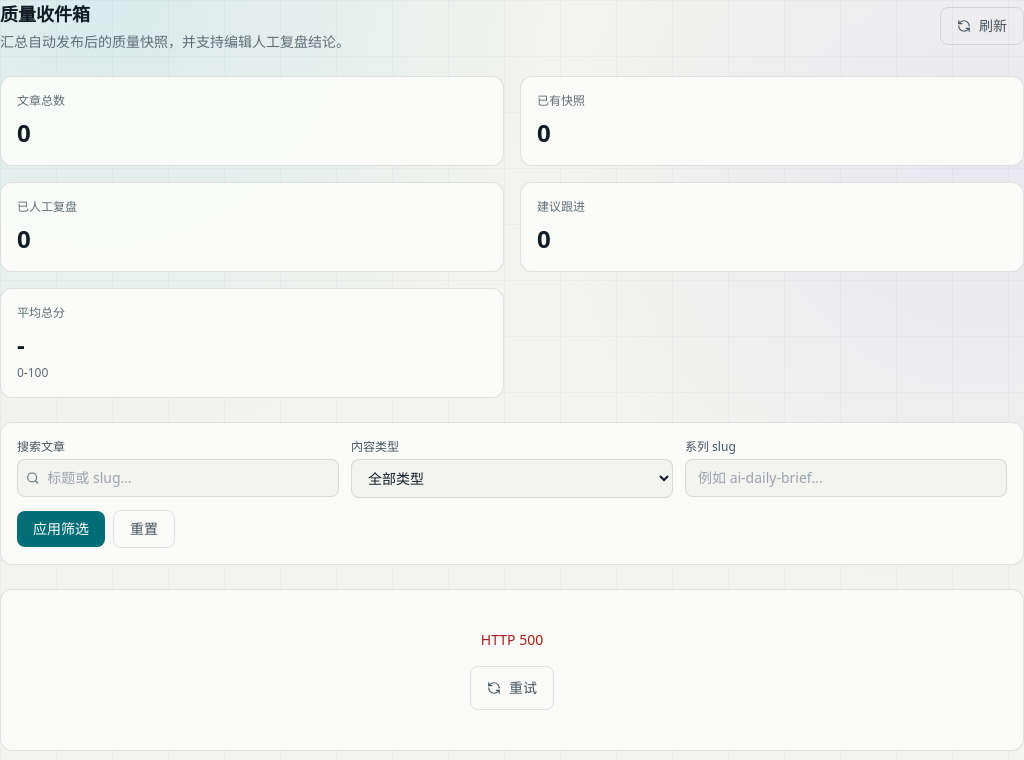
Test: admin panels surface load failures instead of an empty state › AdminQualityInbox never renders 暂无质量记录 for a failed request
The image size is (1024, 760).
Check: the message shows "HTTP 500", box [481,630,543,649]
Check: the text "暂无质量记录。" is not shown
Click the button "重试". click: [512, 688]
box: [470,666,554,710]
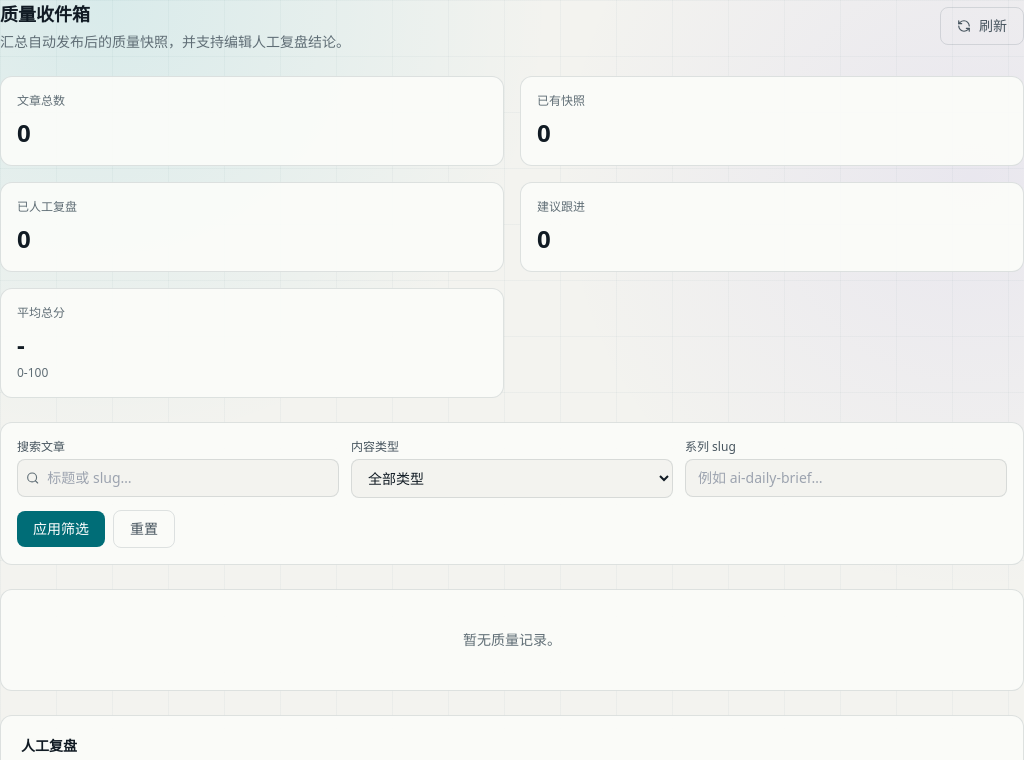
Check: the text "暂无质量记录。" is shown, box [0,589,1023,691]
Check: the message "HTTP 500 重试" is gone
